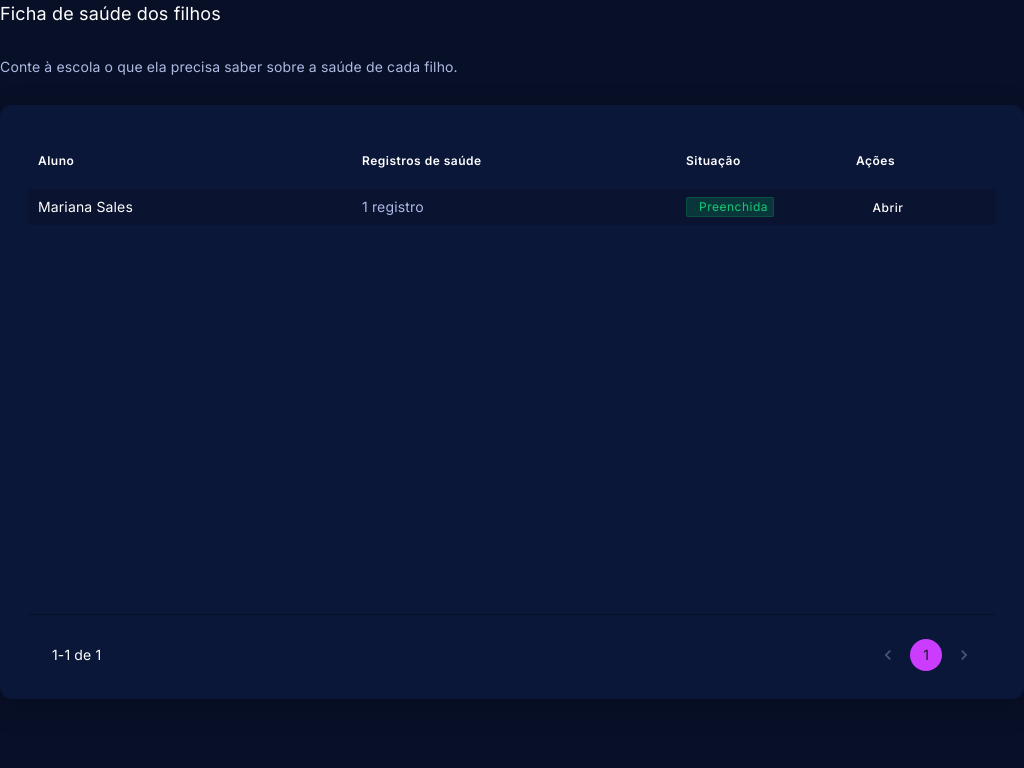
it: MyHealthRecords › keeps a single child on the list until the row is chosen
Expected: the text "Mariana Sales" is shown, left=38, top=197, right=133, bottom=217
Expected: the text "Preenchida" is shown, left=699, top=198, right=768, bottom=216
Click the button "Abrir" at (888, 207), box left=856, top=190, right=920, bottom=225
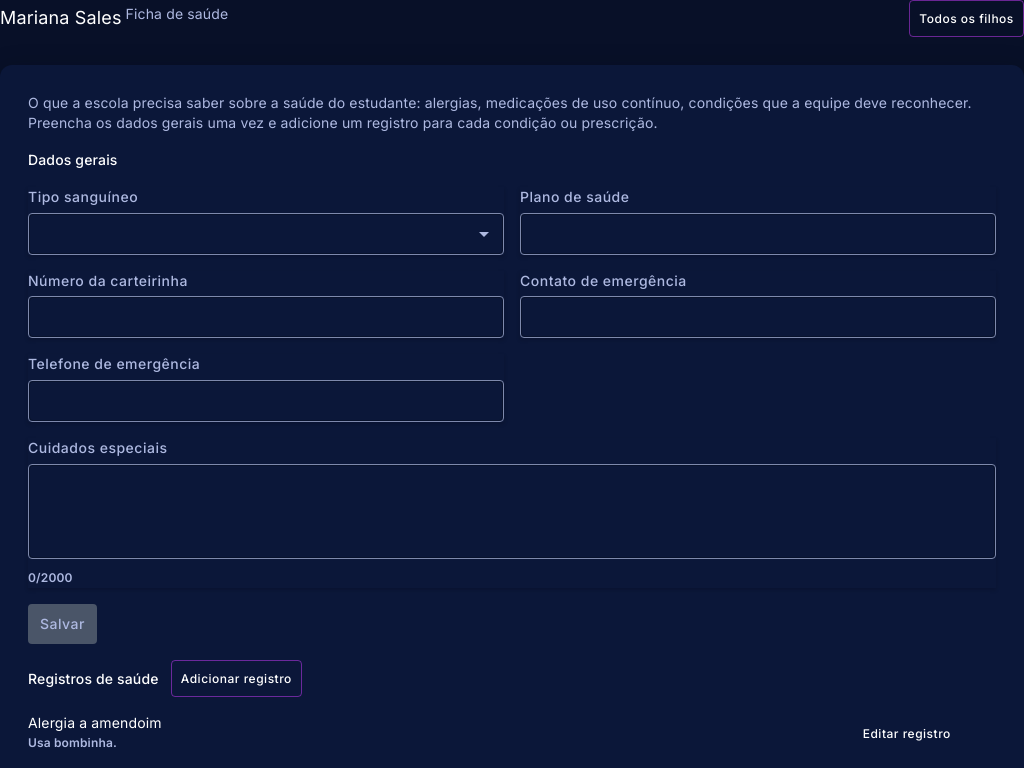
Expected: the text "Registros de saúde" is shown, left=28, top=668, right=159, bottom=690
Result: the text "Dados gerais" is shown at left=28, top=151, right=118, bottom=168
Result: the text "Alergia a amendoim" is shown at left=28, top=714, right=162, bottom=731
